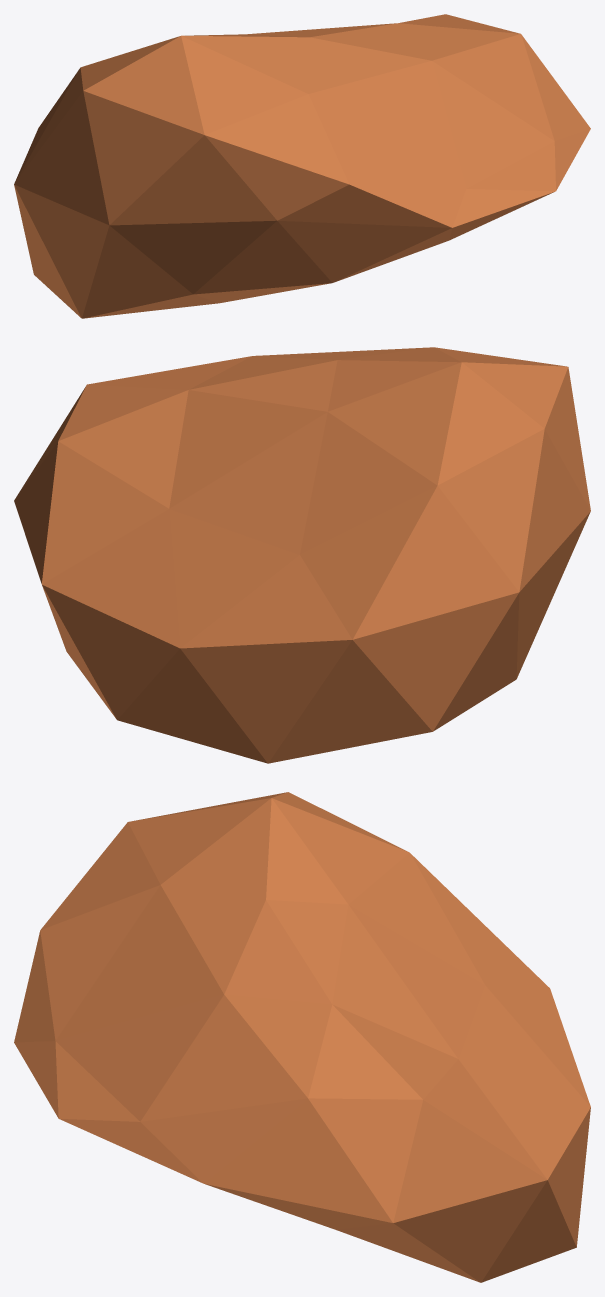
Rendered from Desert_Rock_Variation_1.fbx.
The picture shows the model from 3 angles, top to bottom: view 1: azimuth 30°, elevation 25°; view 2: azimuth 150°, elevation 25°; view 3: azimuth 270°, elevation 25°; orthographic projection. The views are drawn at different scales.
Parts seen in each view (by area): view 1: Desert_Rock; view 2: Desert_Rock; view 3: Desert_Rock.
Part boxes in pixels (x1=…): Desert_Rock: x1=14, y1=14, x2=590, y2=318; Desert_Rock: x1=14, y1=347, x2=590, y2=763; Desert_Rock: x1=14, y1=792, x2=590, y2=1282.
Size of the model in its own units: 68.86 by 42.73 by 61.73.
